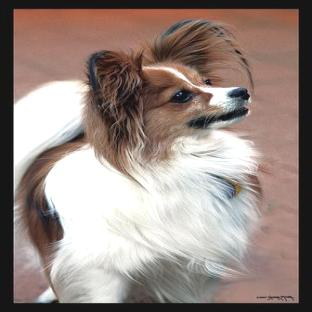Animal: (14, 20, 261, 303)
